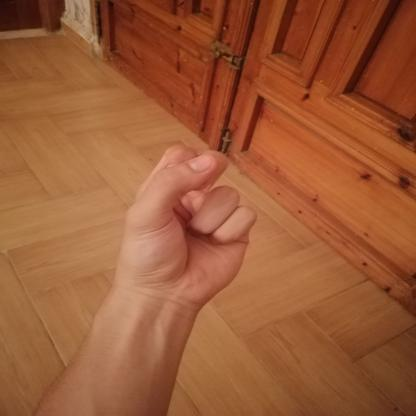QAAF: (104, 135, 270, 309)
